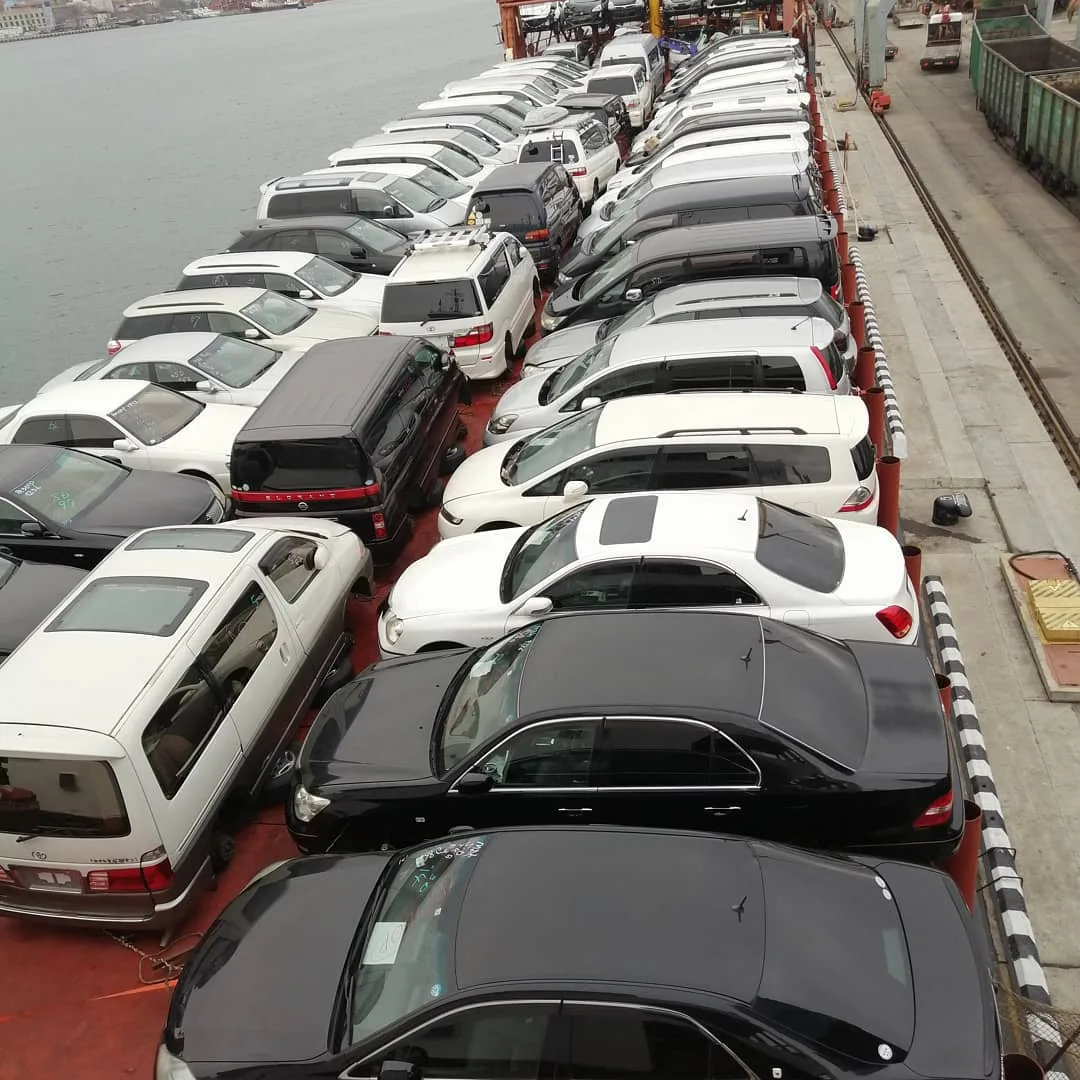Car: (153, 828, 1007, 1080), (286, 611, 965, 862), (0, 519, 372, 931), (377, 492, 920, 659), (438, 393, 879, 539), (230, 335, 466, 563), (484, 315, 850, 445), (542, 217, 844, 333), (521, 278, 857, 377), (0, 381, 252, 500), (558, 176, 826, 284), (0, 446, 228, 568), (380, 227, 541, 382), (573, 152, 809, 247), (39, 334, 300, 407), (108, 288, 375, 354), (590, 138, 808, 213), (177, 252, 384, 324), (464, 163, 582, 285), (256, 170, 465, 237), (607, 122, 811, 190), (632, 68, 801, 144), (630, 84, 796, 155), (620, 108, 809, 170), (517, 105, 622, 214), (633, 92, 811, 154), (228, 217, 412, 276), (652, 50, 799, 118), (0, 551, 86, 657), (654, 61, 806, 119), (328, 143, 499, 189), (307, 163, 473, 209), (664, 37, 806, 89), (352, 129, 518, 167), (664, 46, 795, 94), (381, 114, 525, 153), (672, 32, 791, 77), (557, 93, 633, 161), (585, 63, 654, 131), (600, 32, 666, 96), (402, 105, 523, 134), (444, 75, 576, 100), (416, 94, 539, 119), (440, 84, 561, 108), (921, 5, 963, 71), (477, 69, 586, 94), (483, 65, 587, 84), (496, 56, 597, 75), (853, 17, 898, 58), (563, 0, 608, 29), (512, 62, 590, 78), (542, 41, 589, 65), (607, 0, 647, 24), (662, 0, 704, 21), (706, 0, 746, 14)
